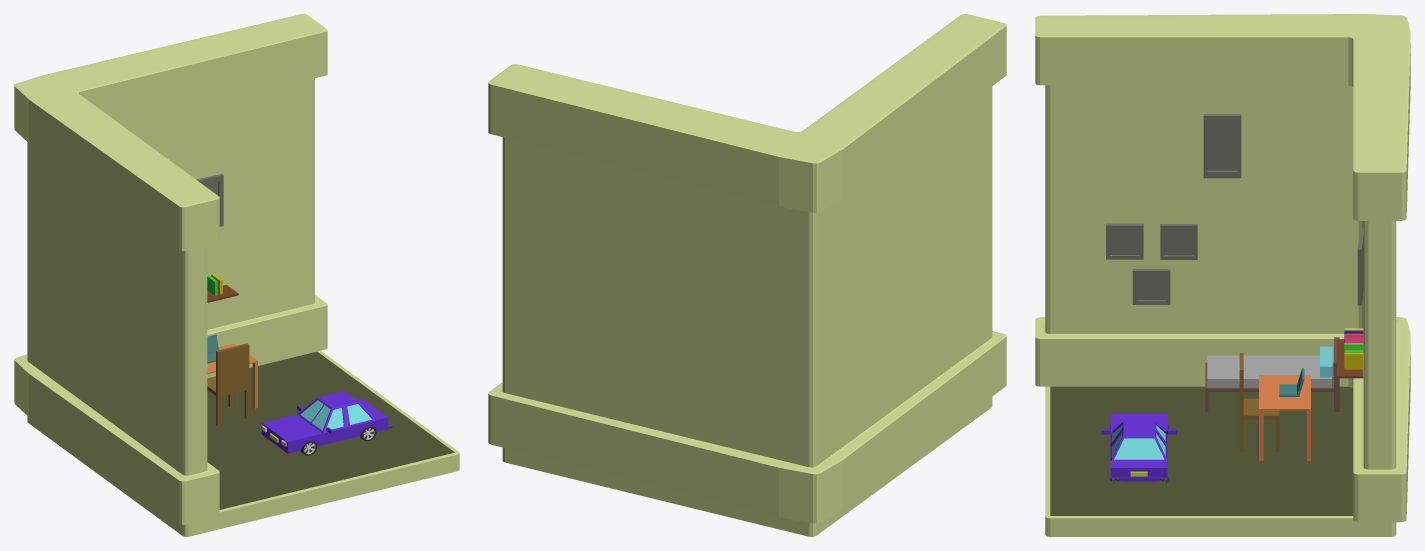
Rendered from Room.glb.
The picture shows the model from 3 angles, left to right: view 1: azimuth 30°, elevation 25°; view 2: azimuth 150°, elevation 25°; view 3: azimuth 270°, elevation 25°; orthographic projection. The views are drawn at different scales.
Parts seen in each view (by area): view 1: Cube; view 2: Cube; view 3: Cube.
Part boxes in pixels (x1,y1,x2,y2): Cube: (14,14,459,536); Cube: (488,14,1006,536); Cube: (1035,14,1410,536).
Size of the model in its own units: 14.42 by 15.63 by 14.42.
